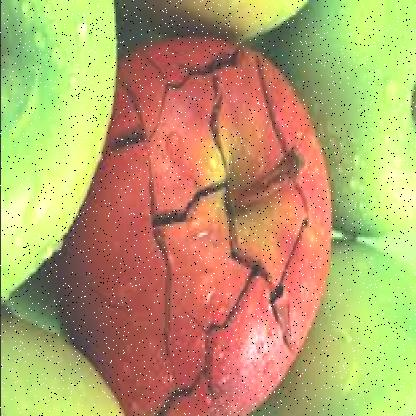damaged_apple: (88, 38, 340, 396)
